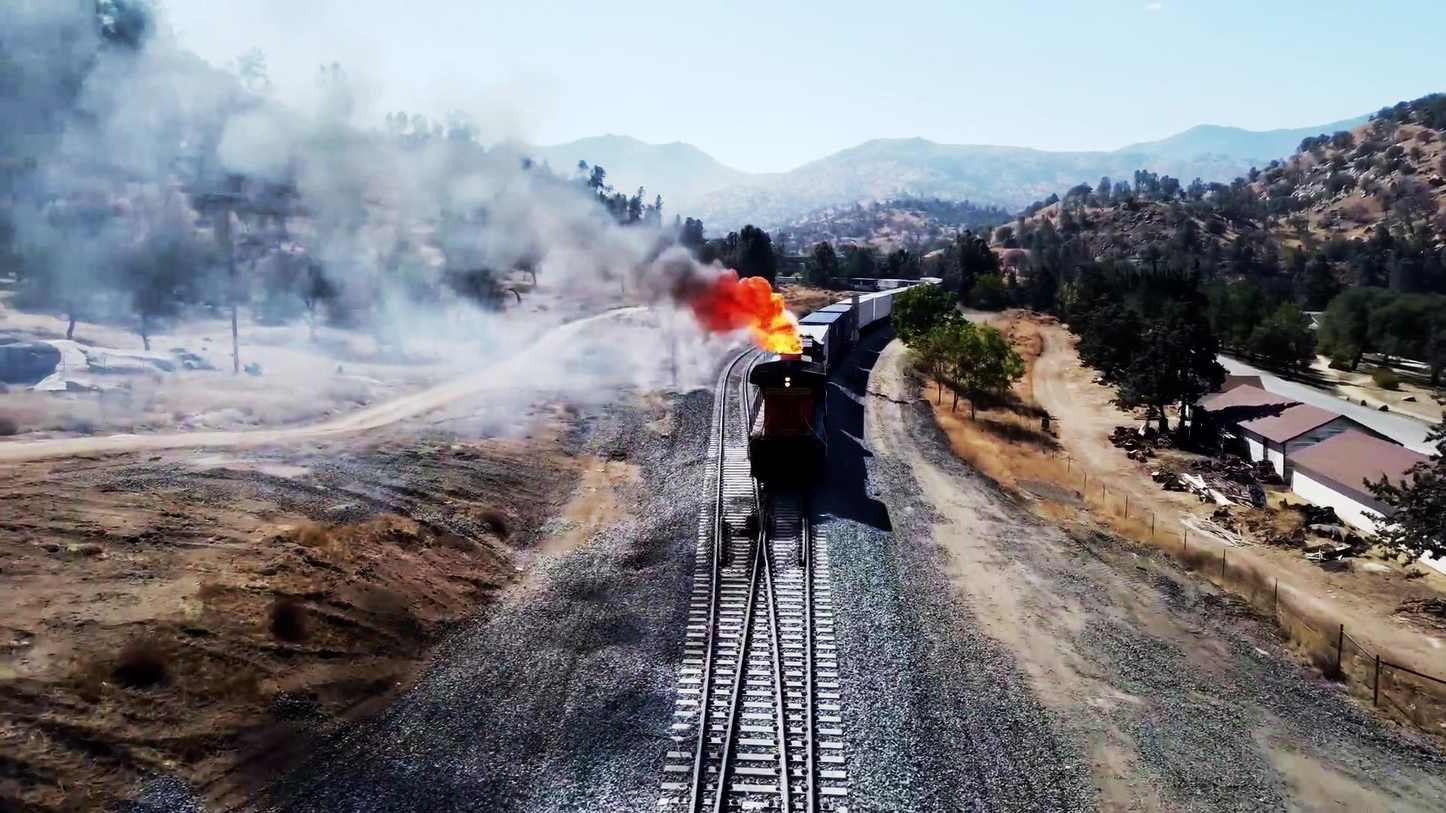fire: (718, 275, 810, 359)
smoke: (556, 196, 715, 317)
